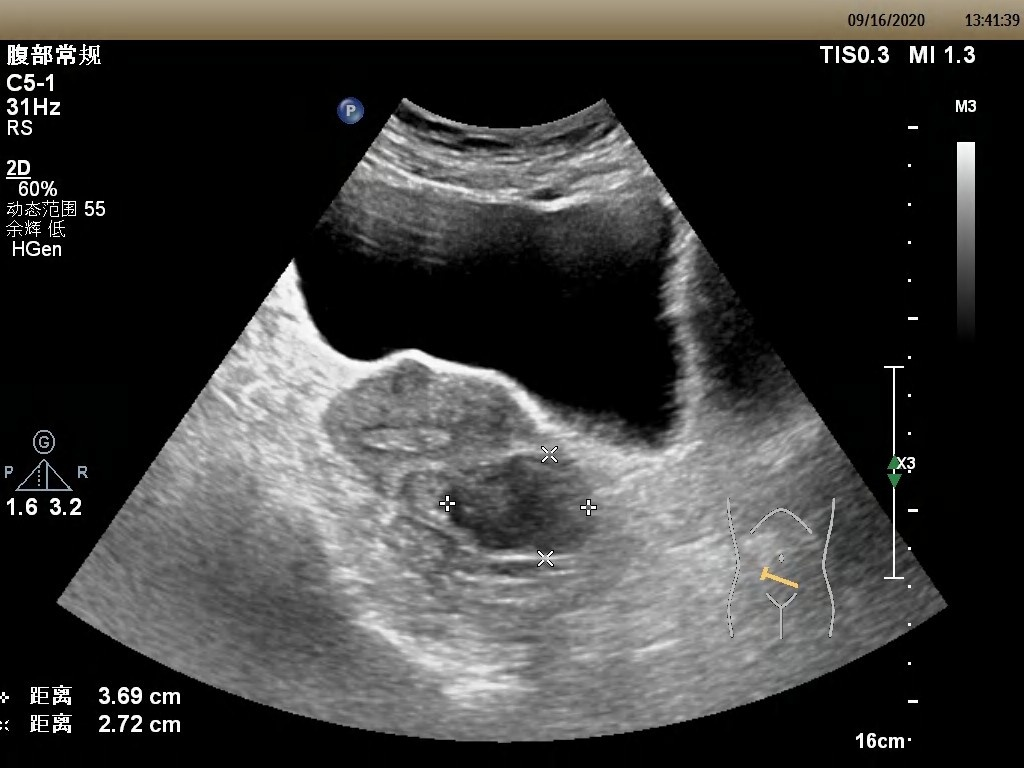肌瘤: (448, 450, 591, 559)
